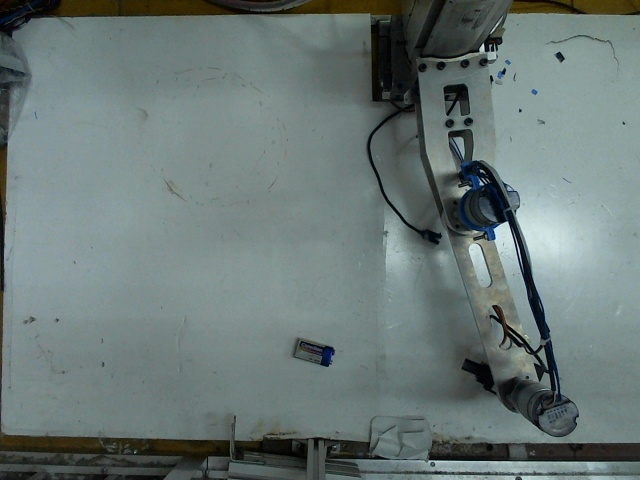battery: (287, 331, 337, 368)
